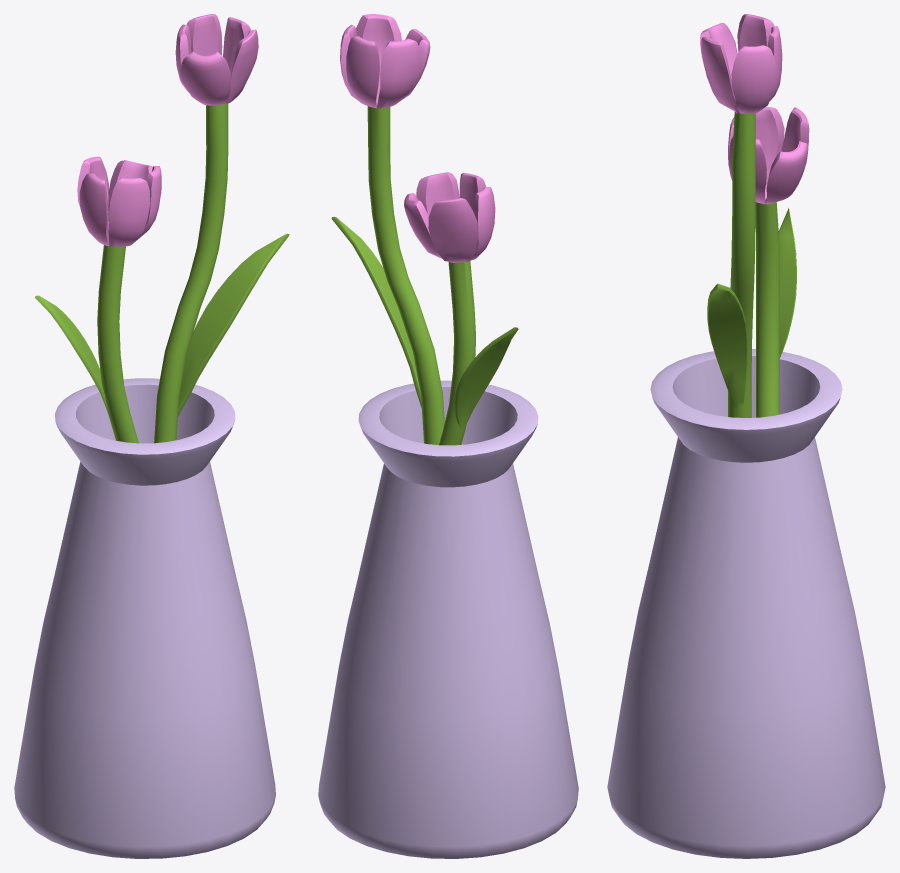
The model's file is TulipV3.fbx.
3 renders of one model, left to right at view 1: azimuth 30°, elevation 25°; view 2: azimuth 150°, elevation 25°; view 3: azimuth 270°, elevation 25°, orthographic. The views are drawn at different scales.
Visible parts, largest first — view 1: Cylinder; view 2: Cylinder; view 3: Cylinder.
Part boxes in pixels (bbox=[...]): Cylinder: bbox=[14, 14, 289, 858]; Cylinder: bbox=[318, 14, 578, 858]; Cylinder: bbox=[607, 14, 885, 858].
Bounding box in the file's own units: 183 × 547 × 170.
